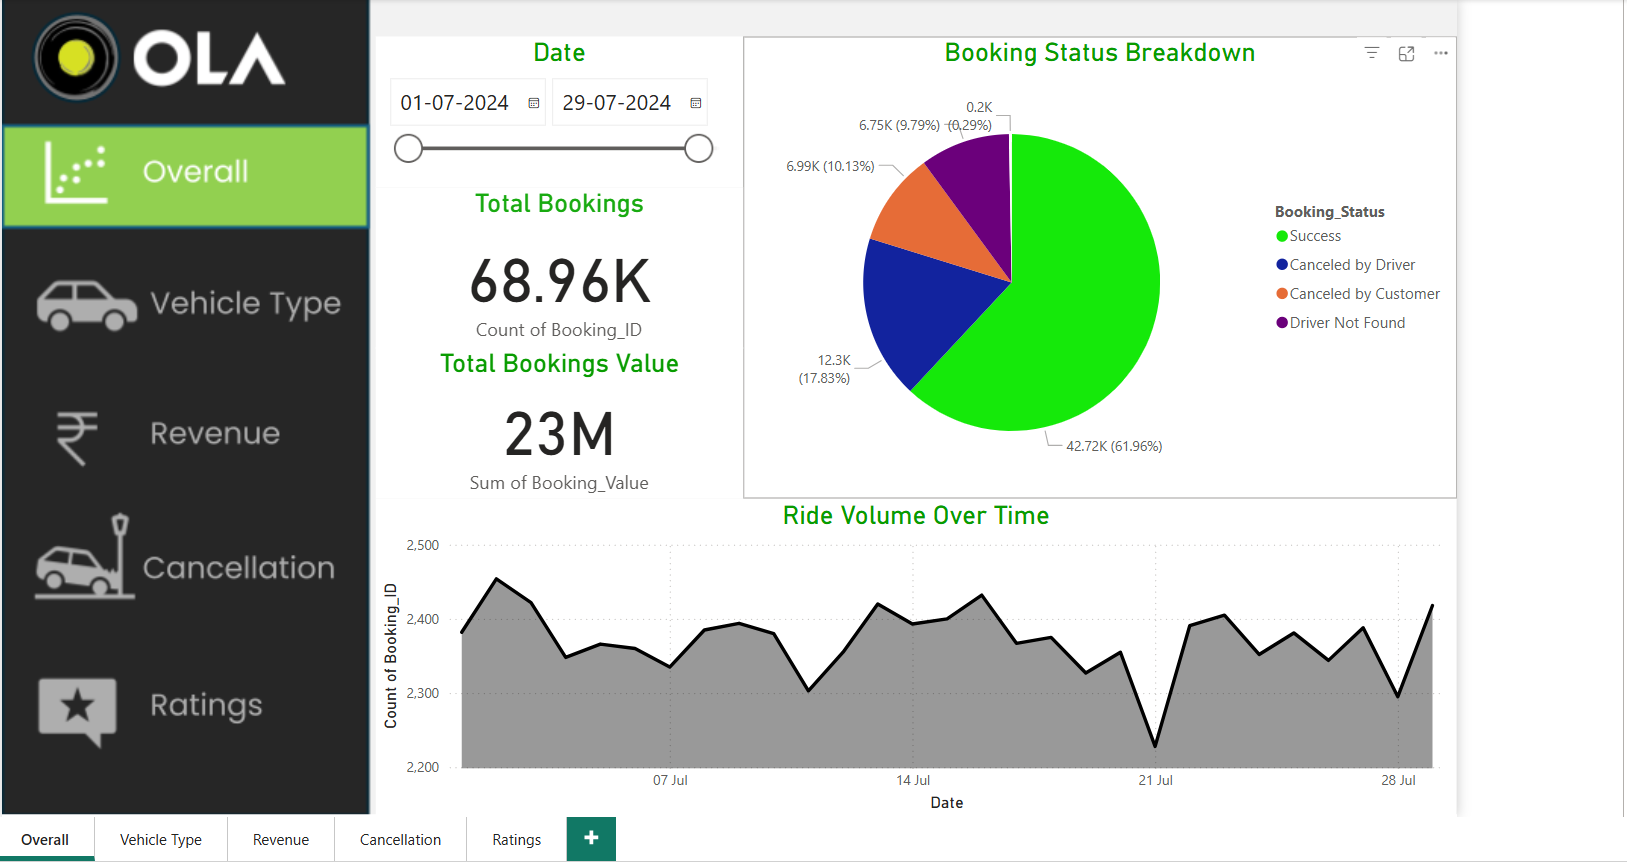

What the dashboard file says about the page in this screenshot:
{"tool":"powerbi","page":{"name":"Overall","canvas":[1280,720],"ordinal":0},"visuals":[{"type":"actionButton","box":[0,236.6,318.9,67.8],"z":0},{"type":"actionButton","box":[0,341.9,318.9,77.9],"z":1},{"type":"actionButton","box":[0,451.9,318.9,75.9],"z":2},{"type":"actionButton","box":[0,591.6,318.9,69.3],"z":3},{"type":"lineChart","title":"Ride Volume Over Time","fields":{"Y":["CountNonNull(July.Booking_ID)"],"Category":["July.Date"]},"box":[328.9,440,950.8,279.9],"z":4},{"type":"pieChart","title":"Booking Status Breakdown","fields":{"Category":["July.Booking_Status"],"Y":["CountNonNull(July.Booking_Status)"]},"box":[652.1,33.2,627.6,406.9],"z":5},{"type":"slicer","title":"Date","fields":{"Values":["July.Date"]},"box":[328.9,33.2,323.2,132.7],"z":6},{"type":"card","title":"Total Bookings","fields":{"Values":["CountNonNull(July.Booking_ID)"]},"box":[328.9,165.9,323.2,141.4],"z":7},{"type":"card","title":"Total Bookings Value","fields":{"Values":["Sum(July.Booking_Value)"]},"box":[328.9,307.3,323.2,132.7],"z":8}]}

Visuals, with their boxes on the page's 1280x720 design canvas (x1, y1, x2, y2). These are canvas units, not pixel positions in the 1627x862 screenshot, which may show the page scaled, cropped or inside an application window:
actionButton: [x1=0, y1=237, x2=319, y2=304]
actionButton: [x1=0, y1=342, x2=319, y2=420]
actionButton: [x1=0, y1=452, x2=319, y2=528]
actionButton: [x1=0, y1=592, x2=319, y2=661]
"Ride Volume Over Time" lineChart: [x1=329, y1=440, x2=1280, y2=720]
"Booking Status Breakdown" pieChart: [x1=652, y1=33, x2=1280, y2=440]
"Date" slicer: [x1=329, y1=33, x2=652, y2=166]
"Total Bookings" card: [x1=329, y1=166, x2=652, y2=307]
"Total Bookings Value" card: [x1=329, y1=307, x2=652, y2=440]
